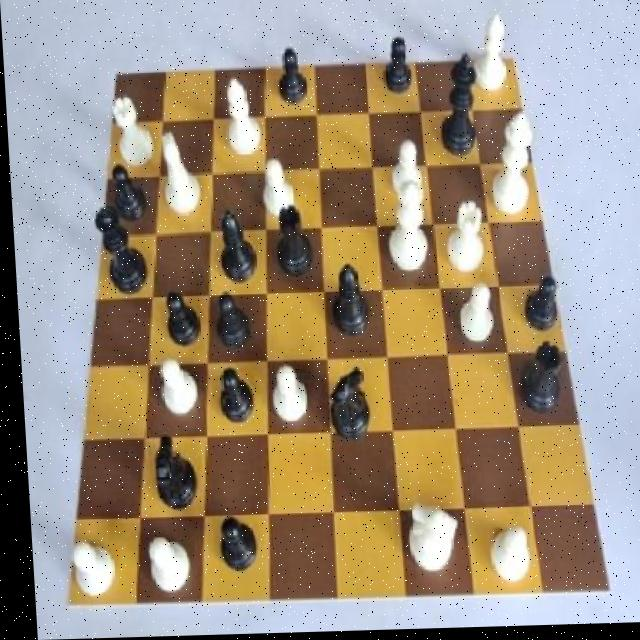bishop: (318, 256, 374, 348), (206, 202, 259, 292)
black-bishop: (432, 49, 487, 166)
black-king: (138, 424, 204, 519), (316, 364, 371, 447)
black-knight: (152, 283, 207, 357), (508, 264, 560, 342), (205, 504, 258, 578), (101, 149, 152, 224), (204, 284, 253, 357), (265, 37, 311, 114), (208, 358, 255, 428), (376, 29, 417, 98)
black-pawn: (85, 200, 151, 298)
black-queen: (510, 332, 570, 432), (265, 197, 315, 288)
black-rook: (214, 68, 267, 163), (464, 11, 514, 104)
white-bishop: (479, 99, 540, 226)
white-king: (392, 487, 459, 584), (147, 122, 207, 224)
white-knight: (50, 515, 119, 609), (134, 521, 191, 608), (444, 279, 501, 353), (259, 353, 311, 434), (478, 512, 531, 591), (149, 353, 203, 428), (382, 130, 430, 210), (249, 153, 298, 225)
white-pawn: (376, 178, 435, 290)
white-queen: (101, 86, 157, 174), (436, 193, 490, 284)
